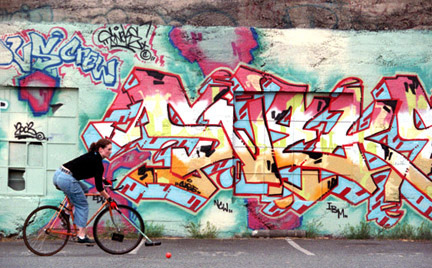person: (52, 138, 120, 247)
